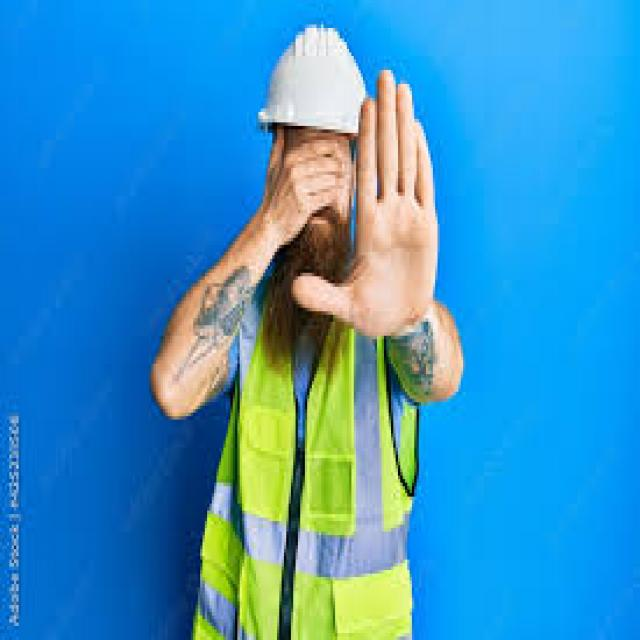Reflective-Jacket: (188, 259, 424, 629)
Safety-Helmet: (254, 21, 372, 143)
